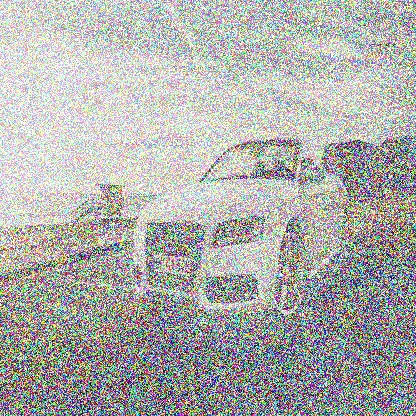Vehicle: (131, 134, 354, 319)
